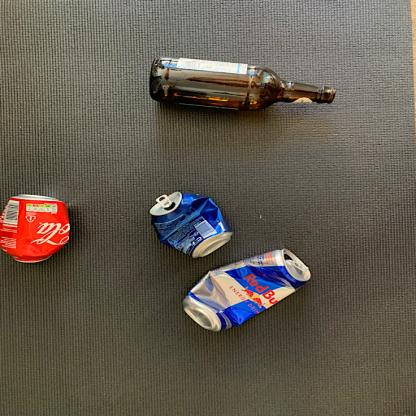trash: (180, 248, 316, 337), (148, 58, 338, 114), (150, 189, 235, 262), (0, 193, 77, 266)
